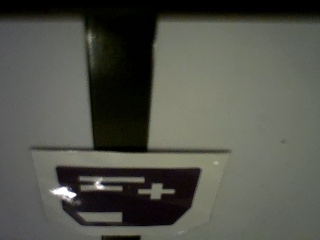Supply_Station: (56, 166, 201, 227)
